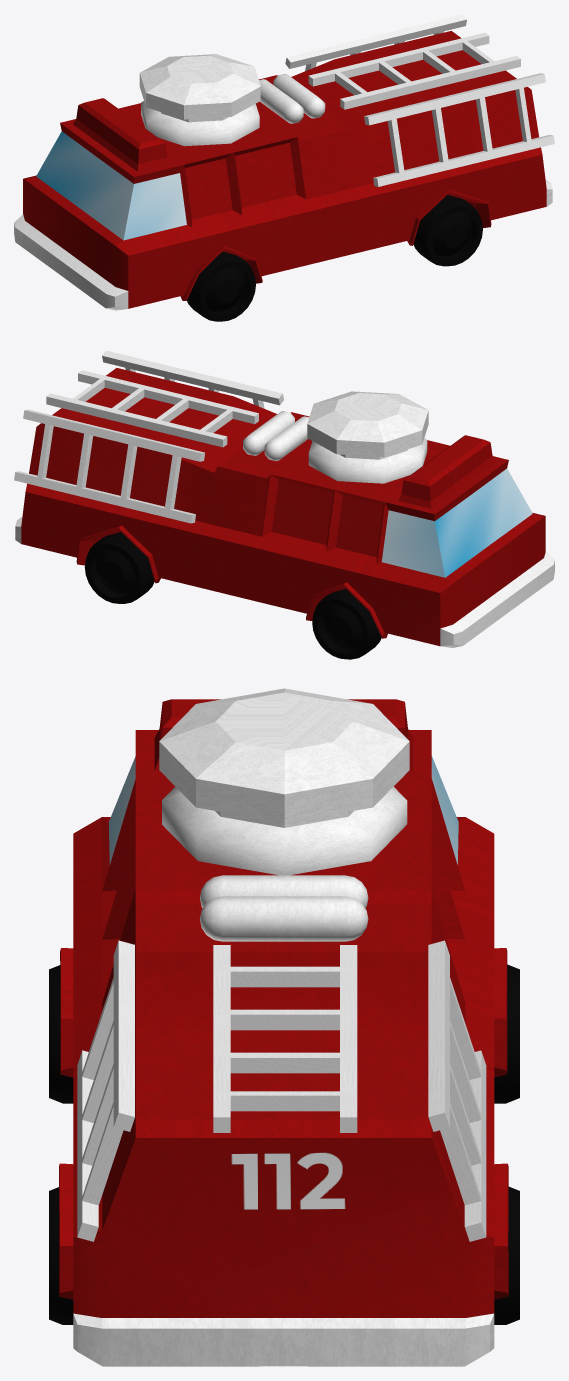
File: camion.FBX
3 renders of one model, top to bottom at view 1: azimuth 30°, elevation 25°; view 2: azimuth 150°, elevation 25°; view 3: azimuth 270°, elevation 25°, orthographic. The views are drawn at different scales.
Parts seen in each view (by area): view 1: Box001, Cylinder001, Box006, Box005, Cylinder003, Cylinder002, Box007, Capsule001, Capsule002; view 2: Box001, Cylinder001, Box007, Box005, Cylinder005, Cylinder004, Box006, Capsule001, Capsule002; view 3: Box001, Cylinder001, Box005, Box007, Box006, Capsule002, Capsule001, Cylinder004, Cylinder005, Cylinder002, Cylinder003.
Boxes of the visible parts, box(x1,y1,x2,y2) form: Box001: box(14, 31, 552, 310); Cylinder001: box(139, 54, 260, 146); Box006: box(364, 73, 554, 186); Box005: box(308, 32, 520, 109); Cylinder003: box(413, 194, 482, 266); Cylinder002: box(187, 251, 255, 321); Box007: box(285, 14, 466, 71); Capsule001: box(259, 79, 303, 123); Capsule002: box(273, 74, 325, 118); Box001: box(15, 368, 554, 647); Cylinder001: box(307, 391, 428, 483); Box007: box(14, 409, 204, 523); Box005: box(46, 370, 258, 447); Cylinder005: box(84, 532, 154, 603); Cylinder004: box(312, 589, 381, 659); Box006: box(102, 350, 283, 408); Capsule001: box(264, 416, 309, 461); Capsule002: box(243, 411, 294, 455); Box001: box(59, 699, 508, 1366); Cylinder001: box(159, 688, 409, 875); Box005: box(213, 945, 357, 1132); Box007: box(428, 940, 486, 1241); Box006: box(77, 940, 134, 1241); Capsule002: box(200, 896, 368, 941); Capsule001: box(200, 875, 368, 908); Cylinder004: box(494, 964, 519, 1103); Cylinder005: box(494, 1186, 519, 1324); Cylinder002: box(49, 965, 73, 1103); Cylinder003: box(49, 1187, 73, 1324).
Size of the model in its own units: 119 by 52.06 by 54.74.
Materials: 1 (1 with a texture image).
